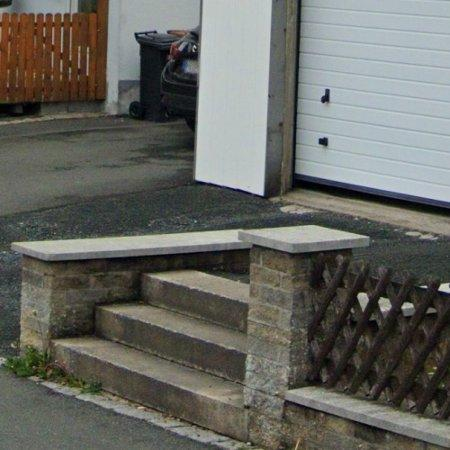stairs: (53, 271, 249, 440)
